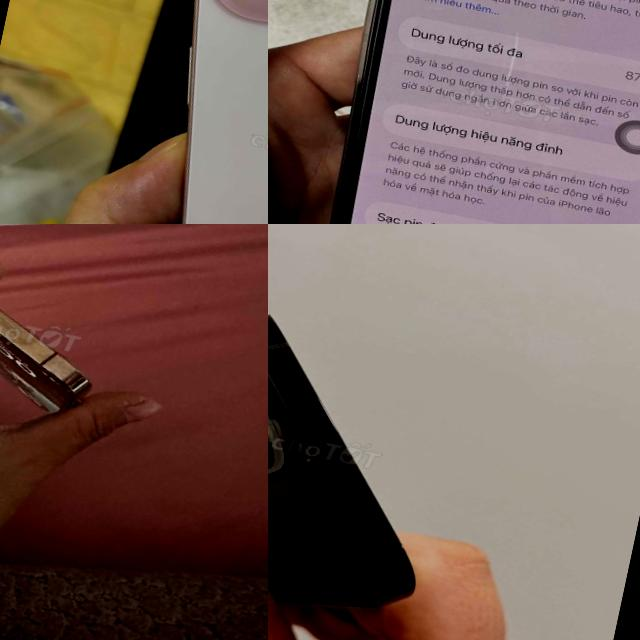scratch: (268, 337, 281, 358)
